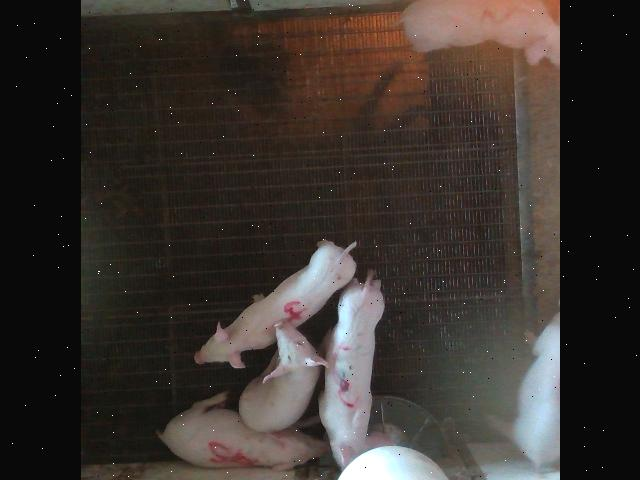pig-2: (400, 0, 559, 65)
pig-3: (318, 271, 391, 468)
pig-4: (194, 241, 355, 368)
pig-5: (156, 392, 328, 470)
